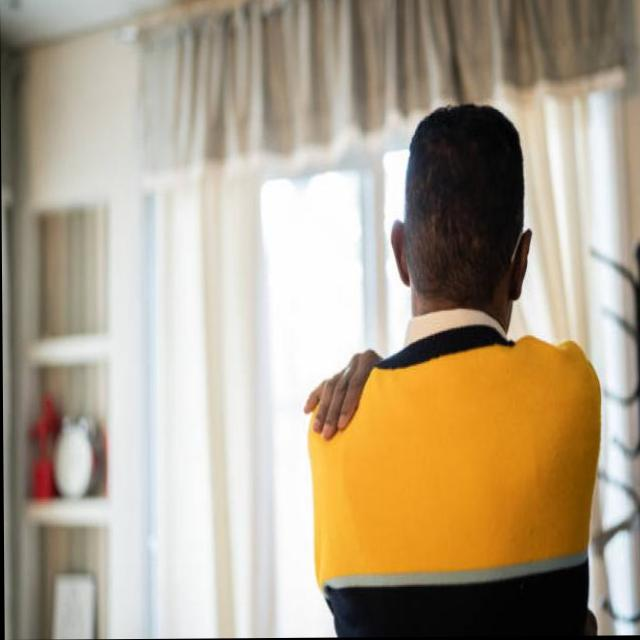no helmet: (392, 103, 536, 360)
